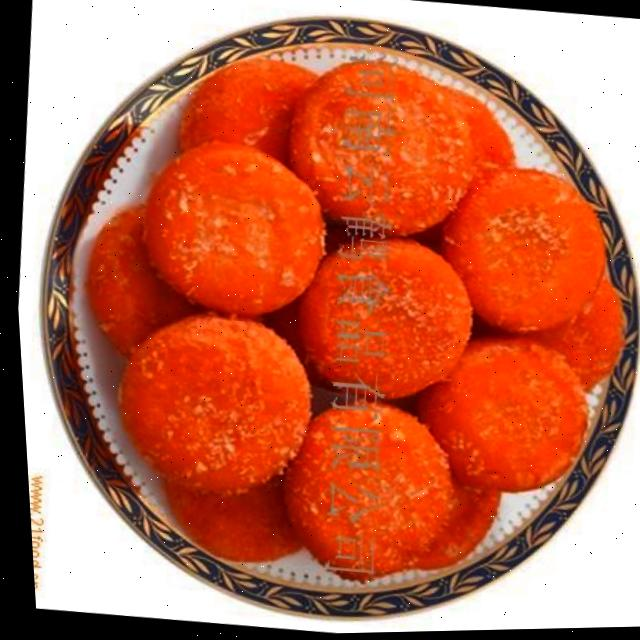炸货点心: (15, 14, 640, 631)
蛋糕甜品: (15, 14, 640, 631)
